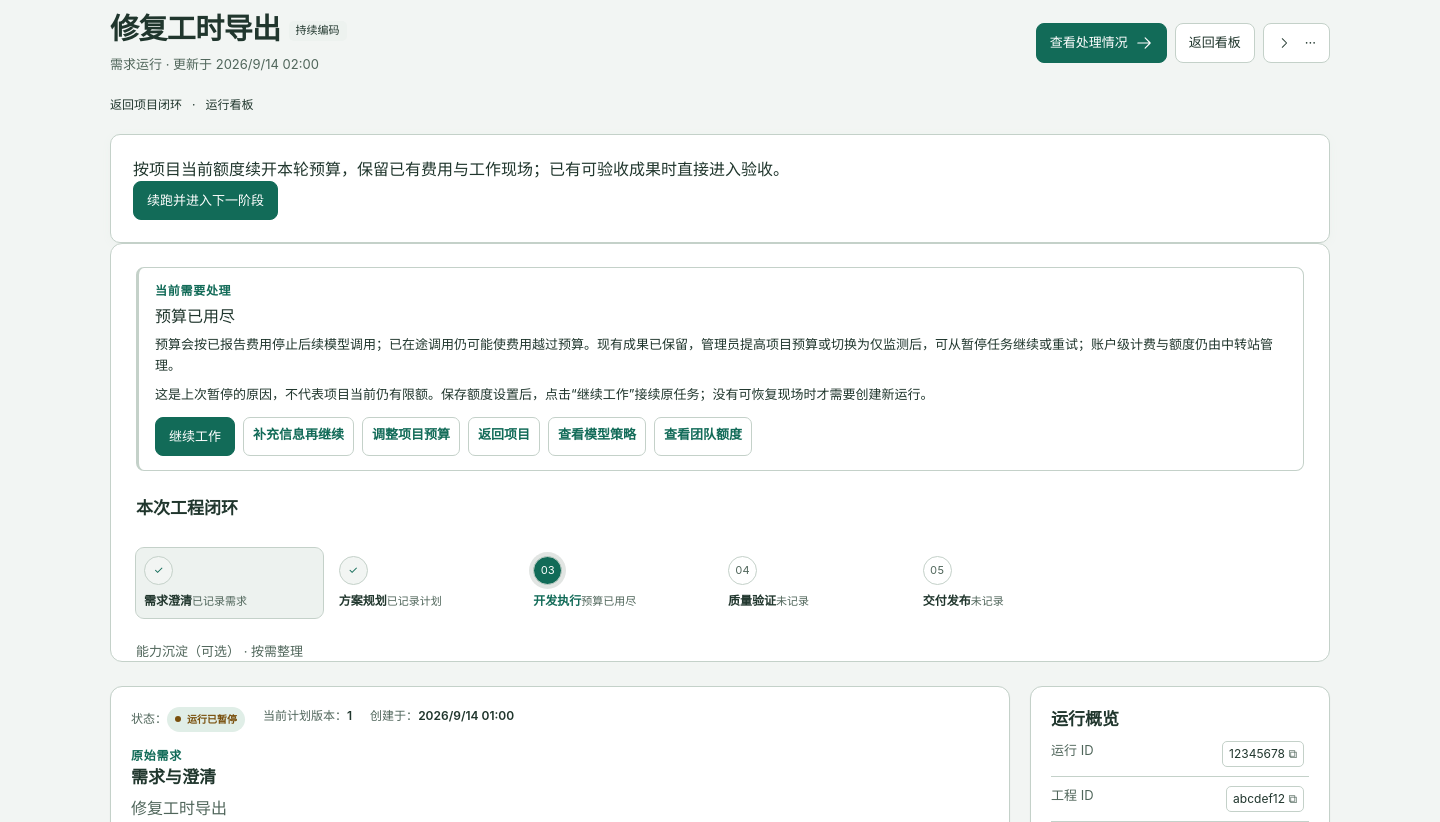
continues the same paused run from the top guidance in any view
The image size is (1440, 822).
Check: the element named "继续工作" is shown, box [110,243,1330,662]
Click the button "继续工作": [195, 437] box [155,417,235,456]
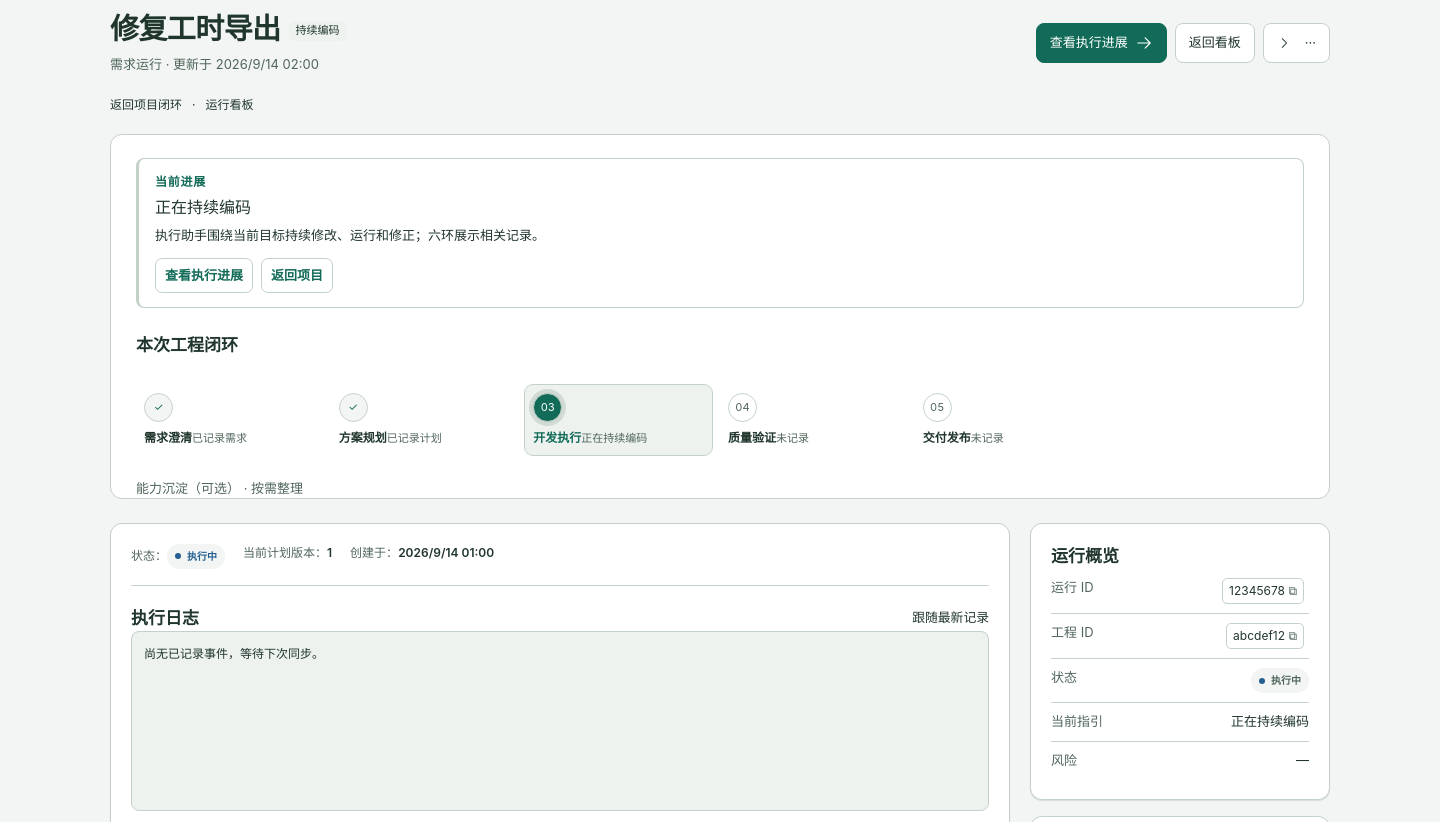
Check: the text "继续工作" is gone
Check: the heading "预算已用尽" is gone
